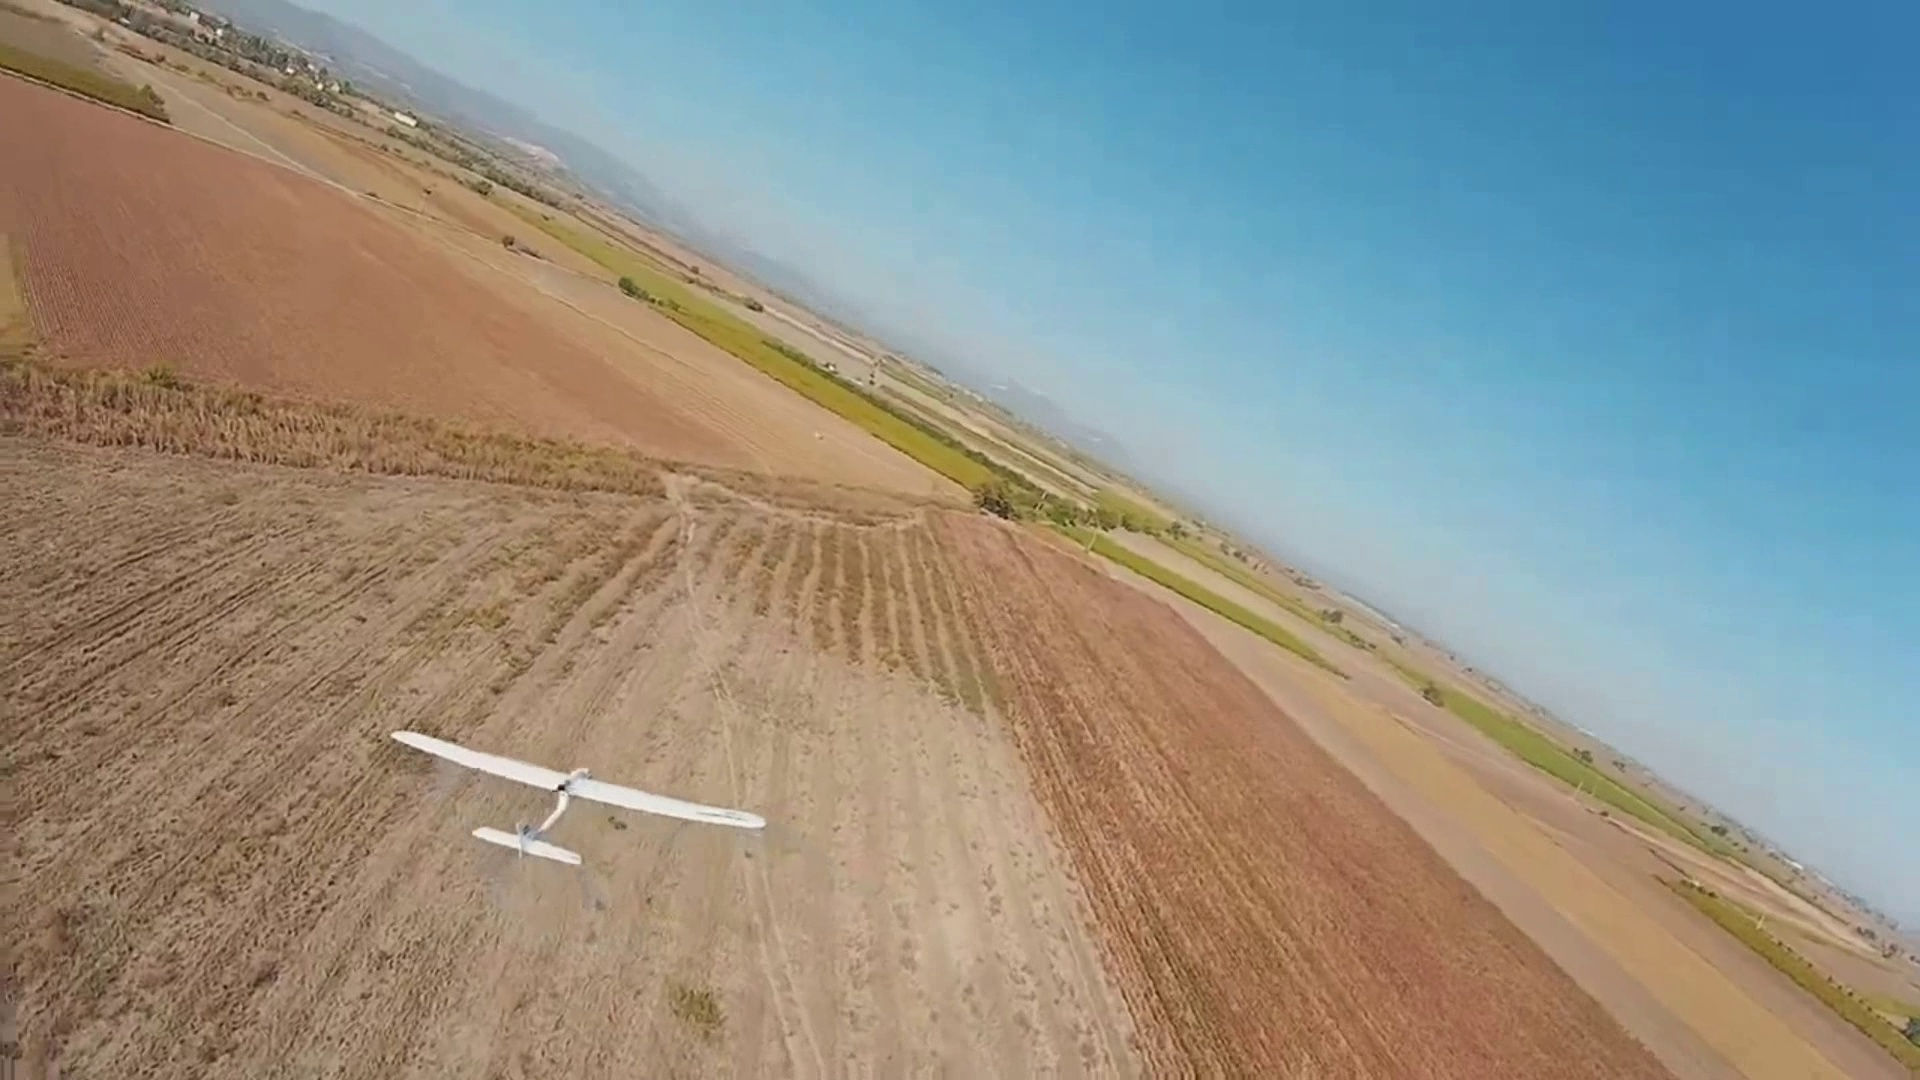airplane: (388, 726, 765, 867)
